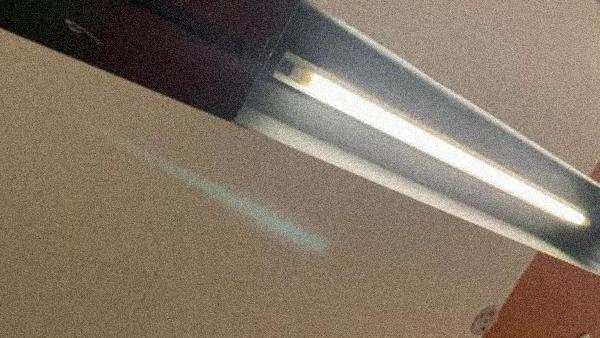light_on: (251, 35, 593, 236)
